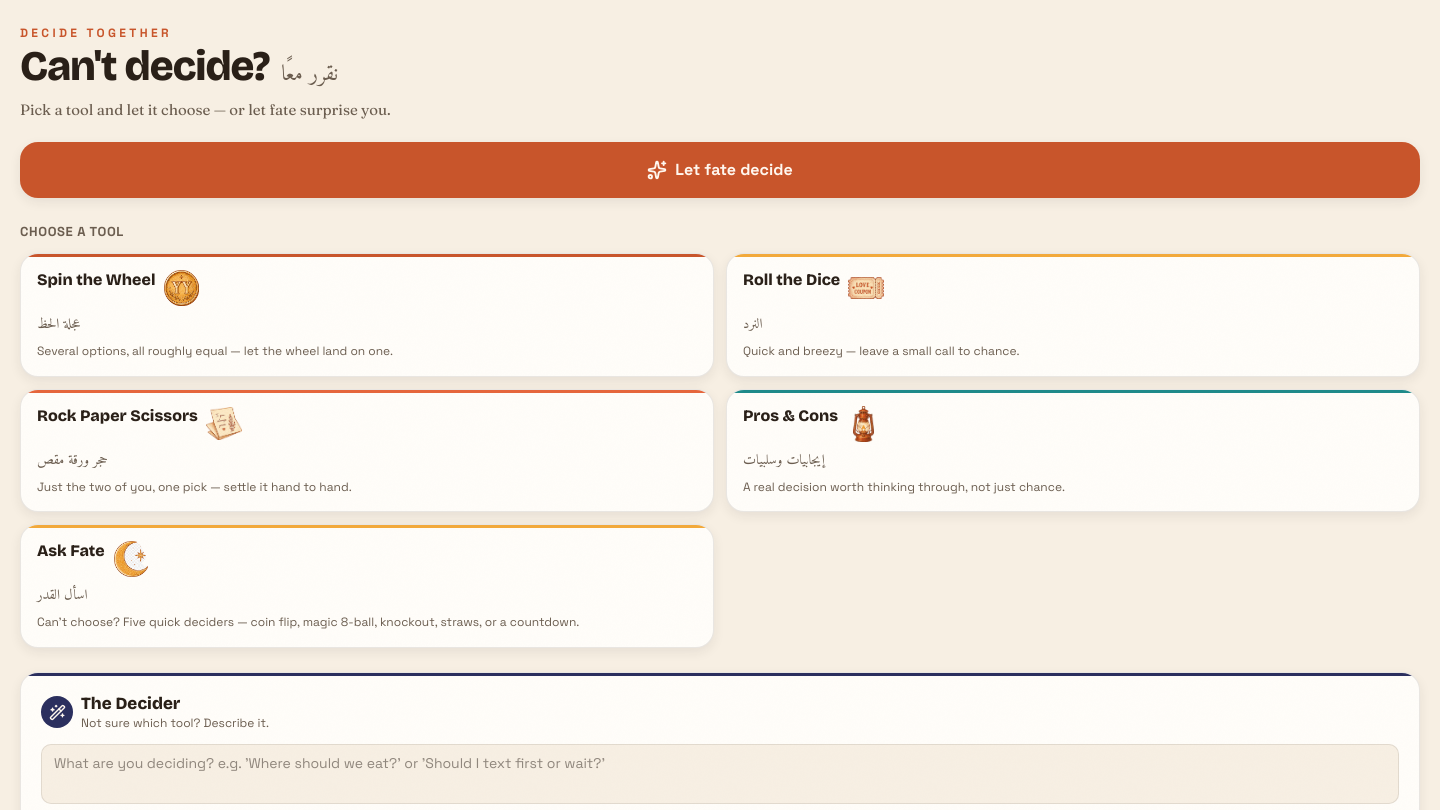
Test case: DecideHub › full decide flow (interaction + integration) › closes the modal via game-close and tears down the runner
Click the button with test id "tool-wheel" at (96,280), box [37,270,697,360]
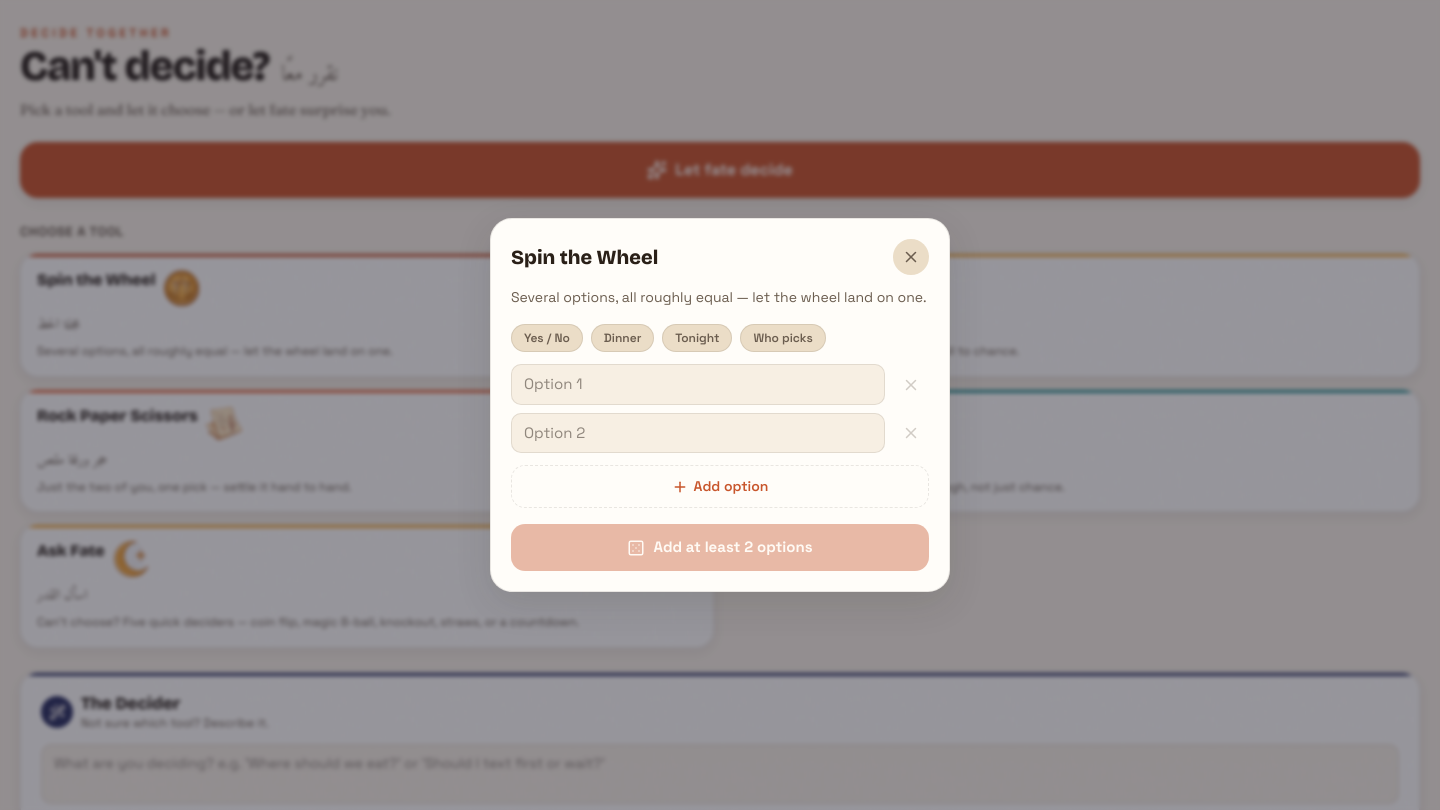
Expected: the button with test id "game-close" is shown
Click the button with test id "game-close" at (911,257), box [893,239,929,275]
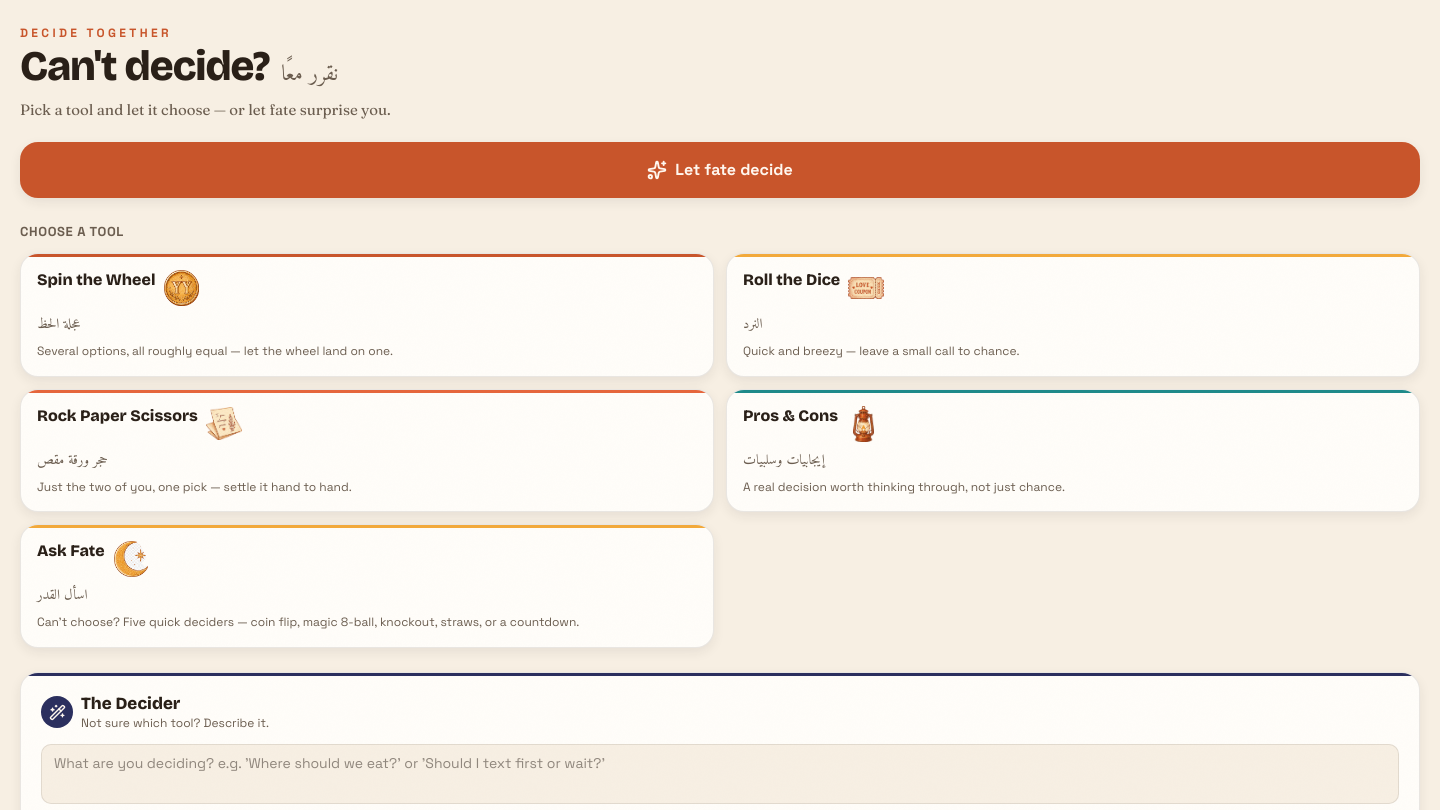
Expected: the button with test id "game-close" is gone
Expected: the button with test id "game-start" is gone
